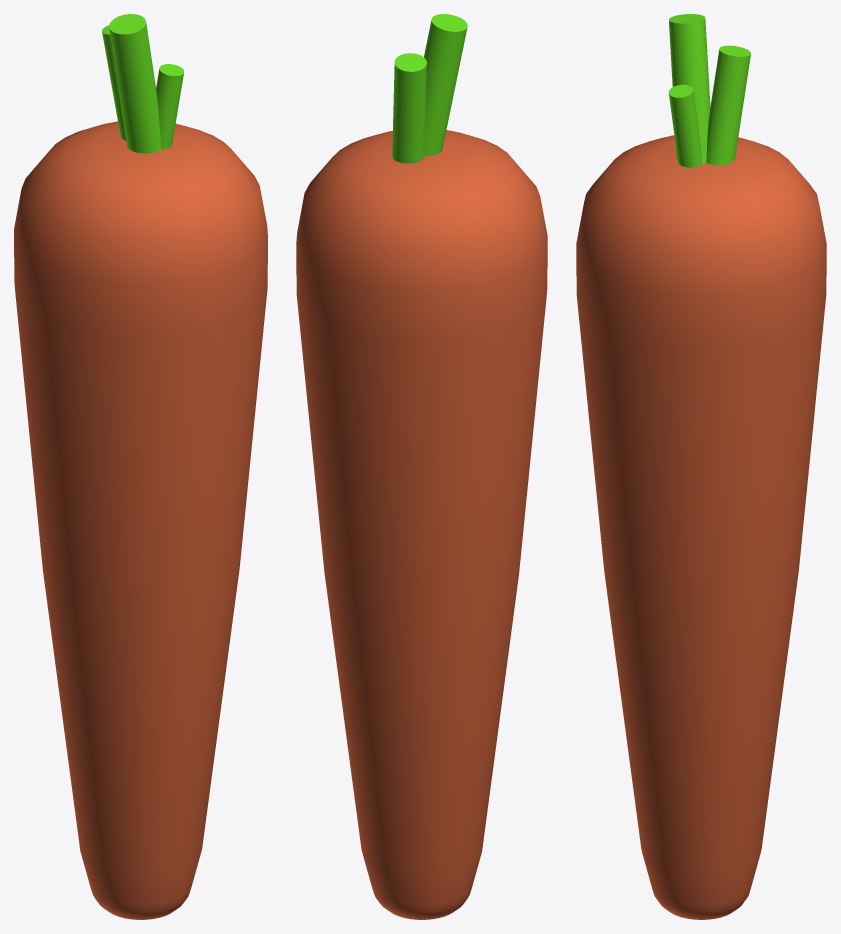
Rendered from carrot.fbx.
3 views of the same model, side by side, from view 1: azimuth 30°, elevation 25°; view 2: azimuth 150°, elevation 25°; view 3: azimuth 270°, elevation 25° (orthographic).
Parts seen in each view (by area): view 1: Cylinder; view 2: Cylinder; view 3: Cylinder.
Boxes of the visible parts, x1,y1,x2,y2 form: Cylinder: [14, 14, 267, 919]; Cylinder: [296, 14, 547, 919]; Cylinder: [576, 14, 826, 919].
Size of the model in its own units: 200 by 779 by 200.
